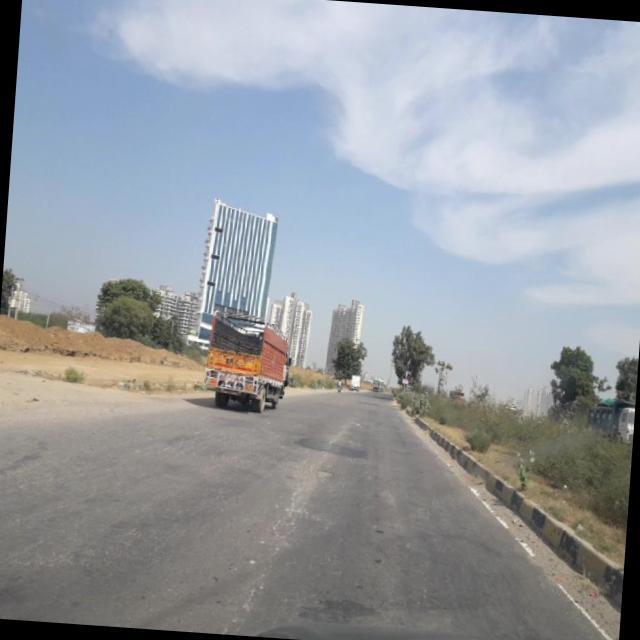crack: (232, 444, 326, 630)
pothole: (309, 456, 338, 484)
